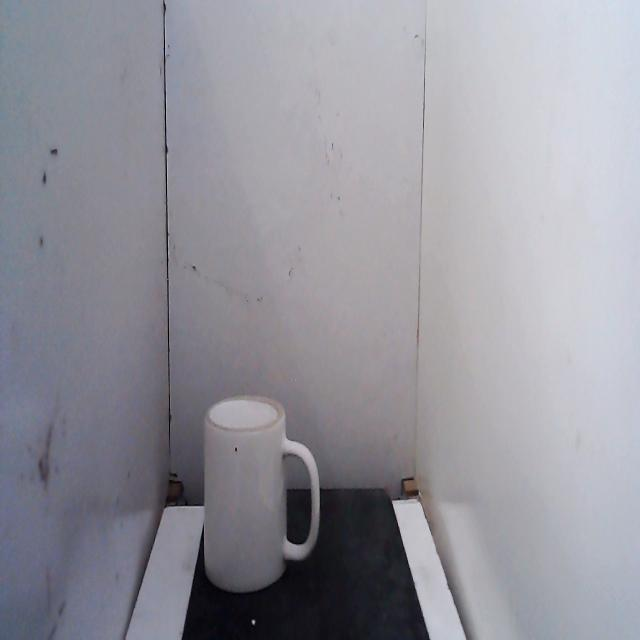glass: (197, 389, 326, 605)
